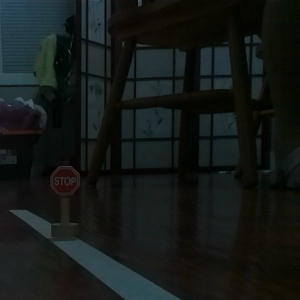stop sign: (47, 163, 83, 241)
